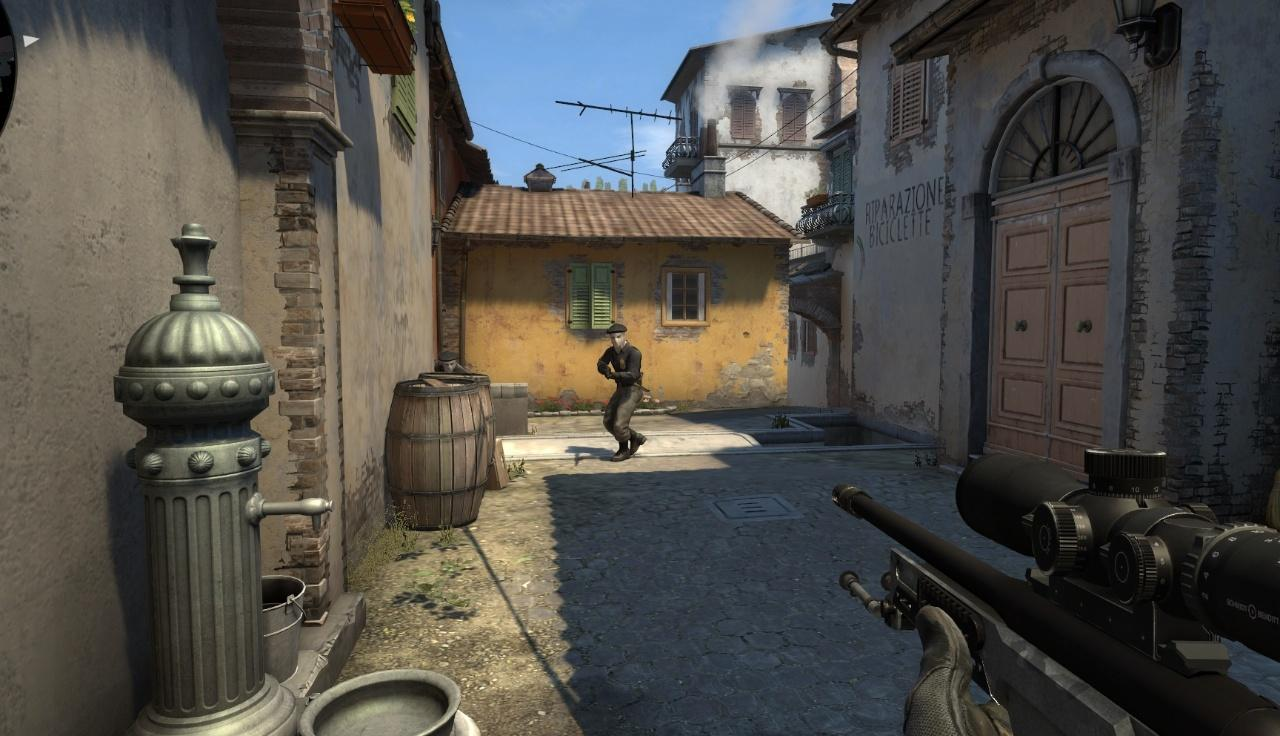sniper: (835, 448, 1280, 735)
tt: (595, 323, 646, 458)
tthead: (606, 323, 628, 348), (438, 351, 460, 372)
